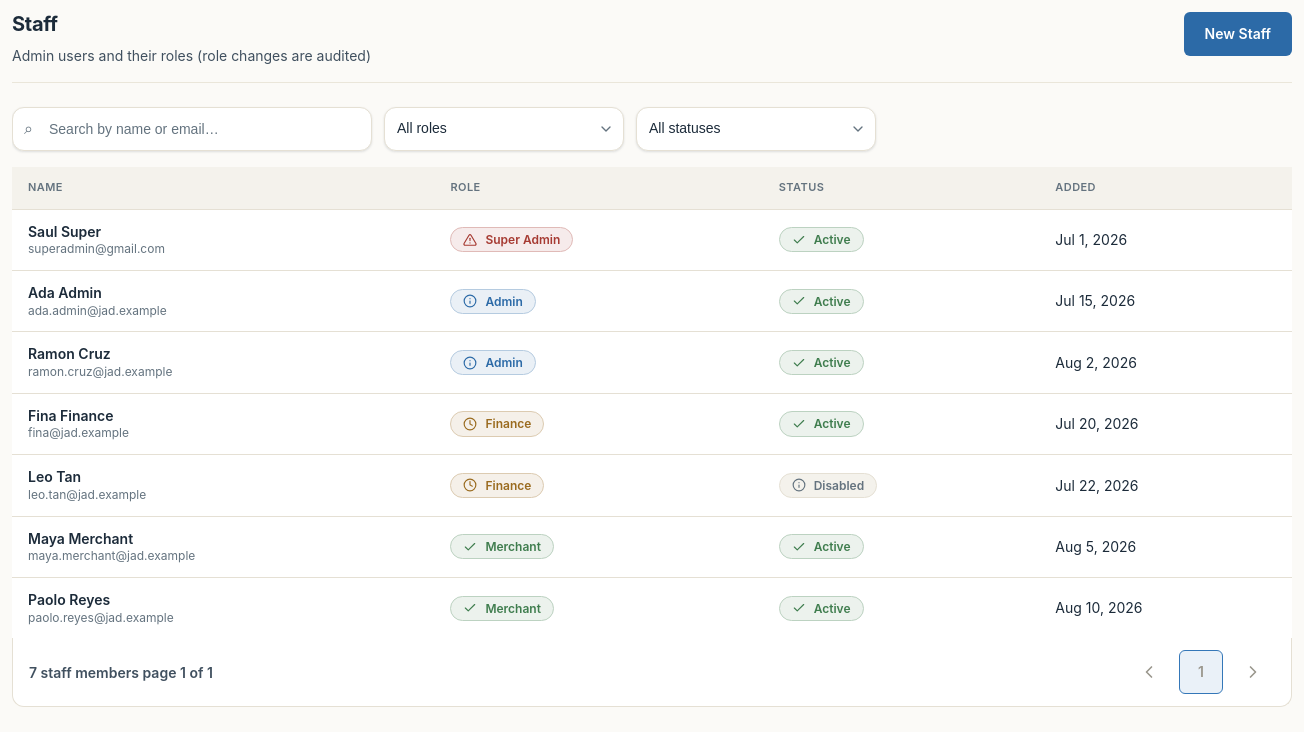
StaffPage › searches by name or email
Expected: the text "Saul Super" is shown, [28, 223, 101, 240]
Step 1. Type "maya" into the search field named "Search staff" → (192, 129), box [12, 107, 372, 151]
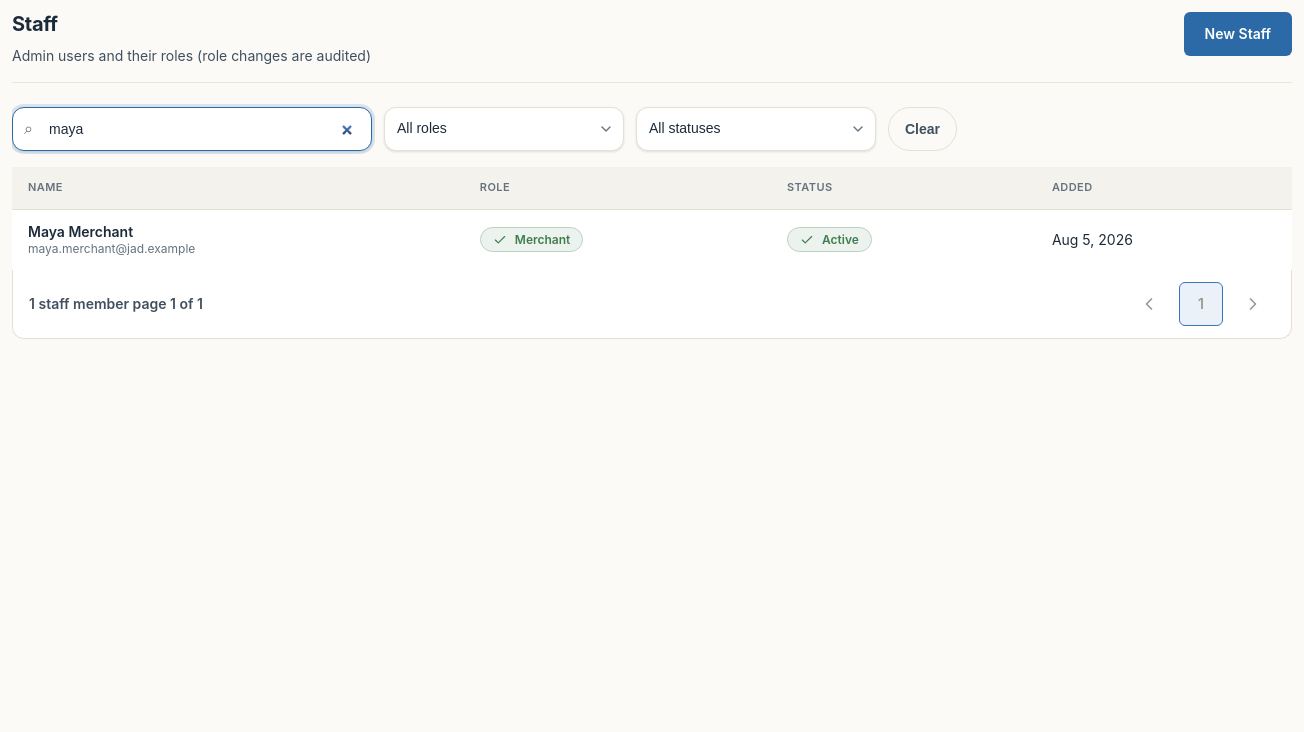
Expected: the text "Maya Merchant" is shown, [28, 223, 133, 240]
Expected: the text "Saul Super" is gone
